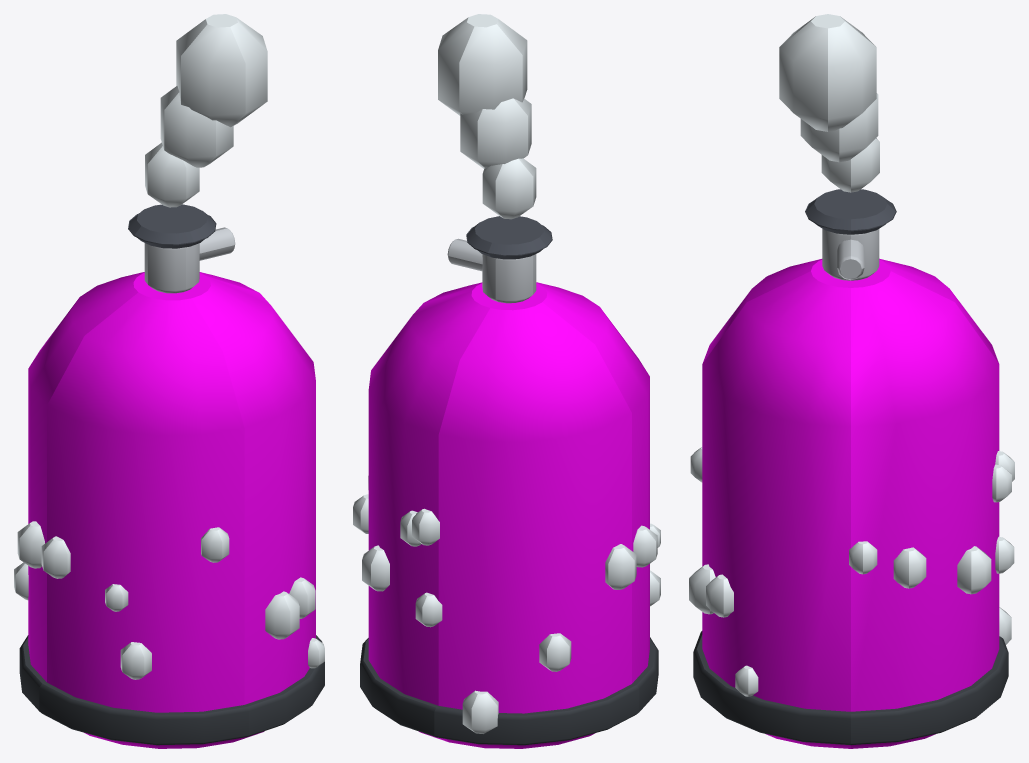
File: objet_azote_liquide.glb
The picture shows the model from 3 angles, left to right: view 1: azimuth 30°, elevation 25°; view 2: azimuth 150°, elevation 25°; view 3: azimuth 270°, elevation 25°; orthographic projection. The views are drawn at different scales.
Parts seen in each view (by area): view 1: bonbonne_teinte.006, bonbonne_givre.002, bonbonne_teinte_sombre.006, bonbonne_composant_clair.006, bonbonne_metal_sci_sombre.002; view 2: bonbonne_teinte.006, bonbonne_givre.002, bonbonne_teinte_sombre.006, bonbonne_composant_clair.006, bonbonne_metal_sci_sombre.002; view 3: bonbonne_teinte.006, bonbonne_givre.002, bonbonne_teinte_sombre.006, bonbonne_metal_sci_sombre.002, bonbonne_composant_clair.006.
Boxes of the visible parts, box(x1,y1,x2,y2) form: bonbonne_teinte.006: box(28, 272, 315, 748); bonbonne_givre.002: box(14, 14, 324, 679); bonbonne_teinte_sombre.006: box(19, 635, 324, 745); bonbonne_composant_clair.006: box(144, 227, 235, 293); bonbonne_metal_sci_sombre.002: box(128, 204, 216, 248); bonbonne_teinte.006: box(368, 282, 649, 748); bonbonne_givre.002: box(353, 14, 660, 733); bonbonne_teinte_sombre.006: box(360, 637, 658, 745); bonbonne_composant_clair.006: box(447, 238, 536, 303); bonbonne_metal_sci_sombre.002: box(466, 216, 552, 259); bonbonne_teinte.006: box(702, 258, 999, 748); bonbonne_givre.002: box(689, 14, 1014, 696); bonbonne_teinte_sombre.006: box(693, 631, 1008, 745); bonbonne_metal_sci_sombre.002: box(805, 189, 896, 234); bonbonne_composant_clair.006: box(822, 229, 879, 280).
Size of the model in its own units: 0.1439 by 0.335 by 0.1426.
